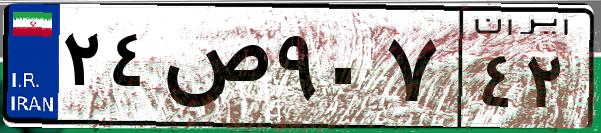0: (330, 28, 385, 110)
2: (57, 26, 110, 100), (525, 38, 570, 115)
4: (475, 38, 525, 113), (110, 28, 158, 98)
7: (385, 28, 445, 110)
9: (270, 28, 330, 110)
ص: (158, 20, 270, 120)
